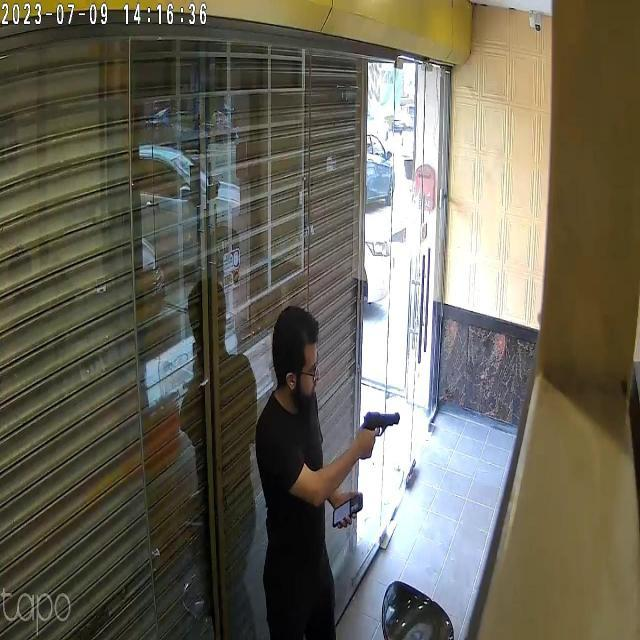Gun: (364, 398, 404, 449)
